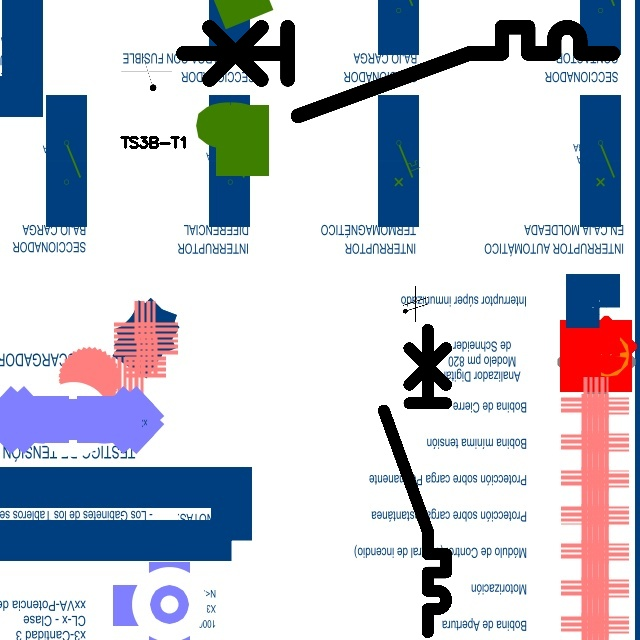interruptor_termomagnetico: (172, 16, 624, 126), (376, 322, 454, 640)
